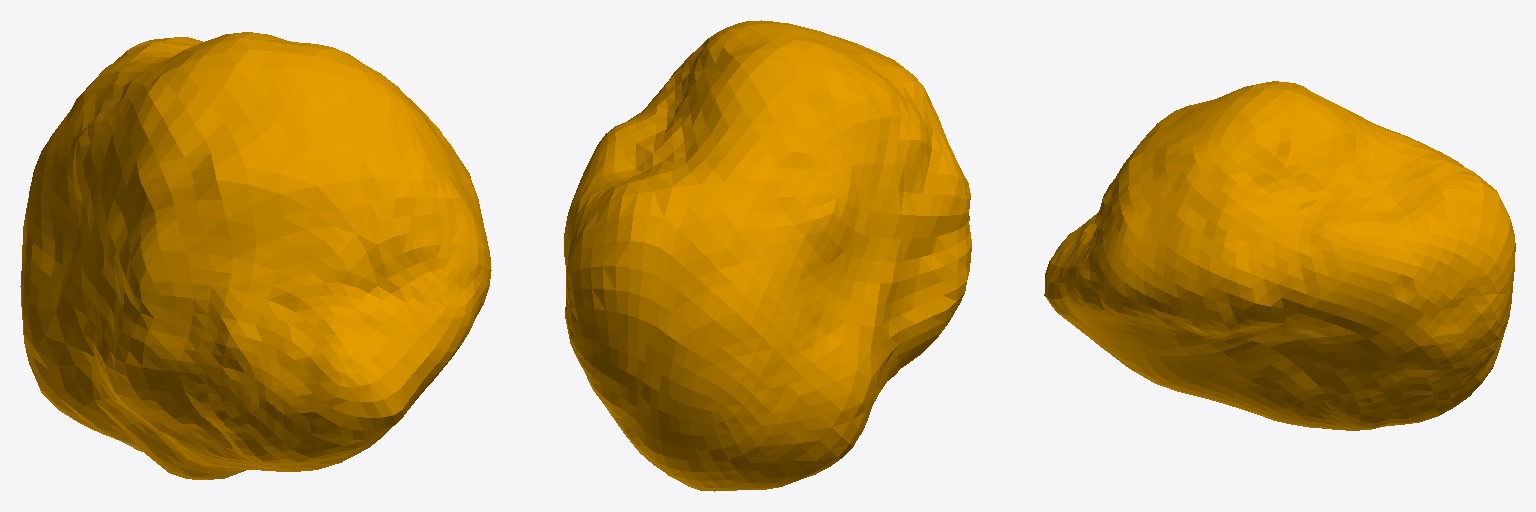
The robot description file, URDF, robot "rock":
<?xml version="1.0" ?>
<robot name="rock">
  <link name="rock">
    <inertial>
      <mass value="0.330"/>
      <origin rpy="0 0 0" xyz="0 0 0"/>
      <inertia ixx="0.000330" ixy="0" ixz="0" iyy="0.000330" iyz="0" izz="0.000330"/>
    </inertial>
    <collision name="rock_collision">
      <origin rpy="0 0 0" xyz="0 0 0"/>
      <geometry>
        <mesh filename="package://rocks/visual/254.dae" scale="1 1 1"/>
      </geometry>
    </collision>
    <visual name="rock_visual">
      <origin rpy="0 0 0" xyz="0 0 0"/>
      <geometry>
        <mesh filename="package://rocks/visual/254.dae" scale="1 1 1"/>
      </geometry>
    </visual>
  </link>
</robot>

--- What the picture shows (computed from the rendered views, not written in the file) ---
3 views of the same robot in one strip: view 1: azimuth 30°, elevation 25°; view 2: azimuth 150°, elevation 25°; view 3: azimuth 270°, elevation 25° (orthographic).
Model rock with 1 links and 0 joints (none), rooted at rock, posed every joint at zero.
Visible links, largest first — view 1: rock; view 2: rock; view 3: rock.
Link boxes in pixels (bbox=[...]): rock: bbox=[20, 32, 491, 479]; rock: bbox=[564, 20, 971, 491]; rock: bbox=[1044, 81, 1515, 430].
Bounding box of the posed robot: 0.0416 × 0.0618 × 0.0491 m (x, y, z).
Meshes: 1 distinct files referenced, 1 mesh visuals loaded (1 Collada DAE).